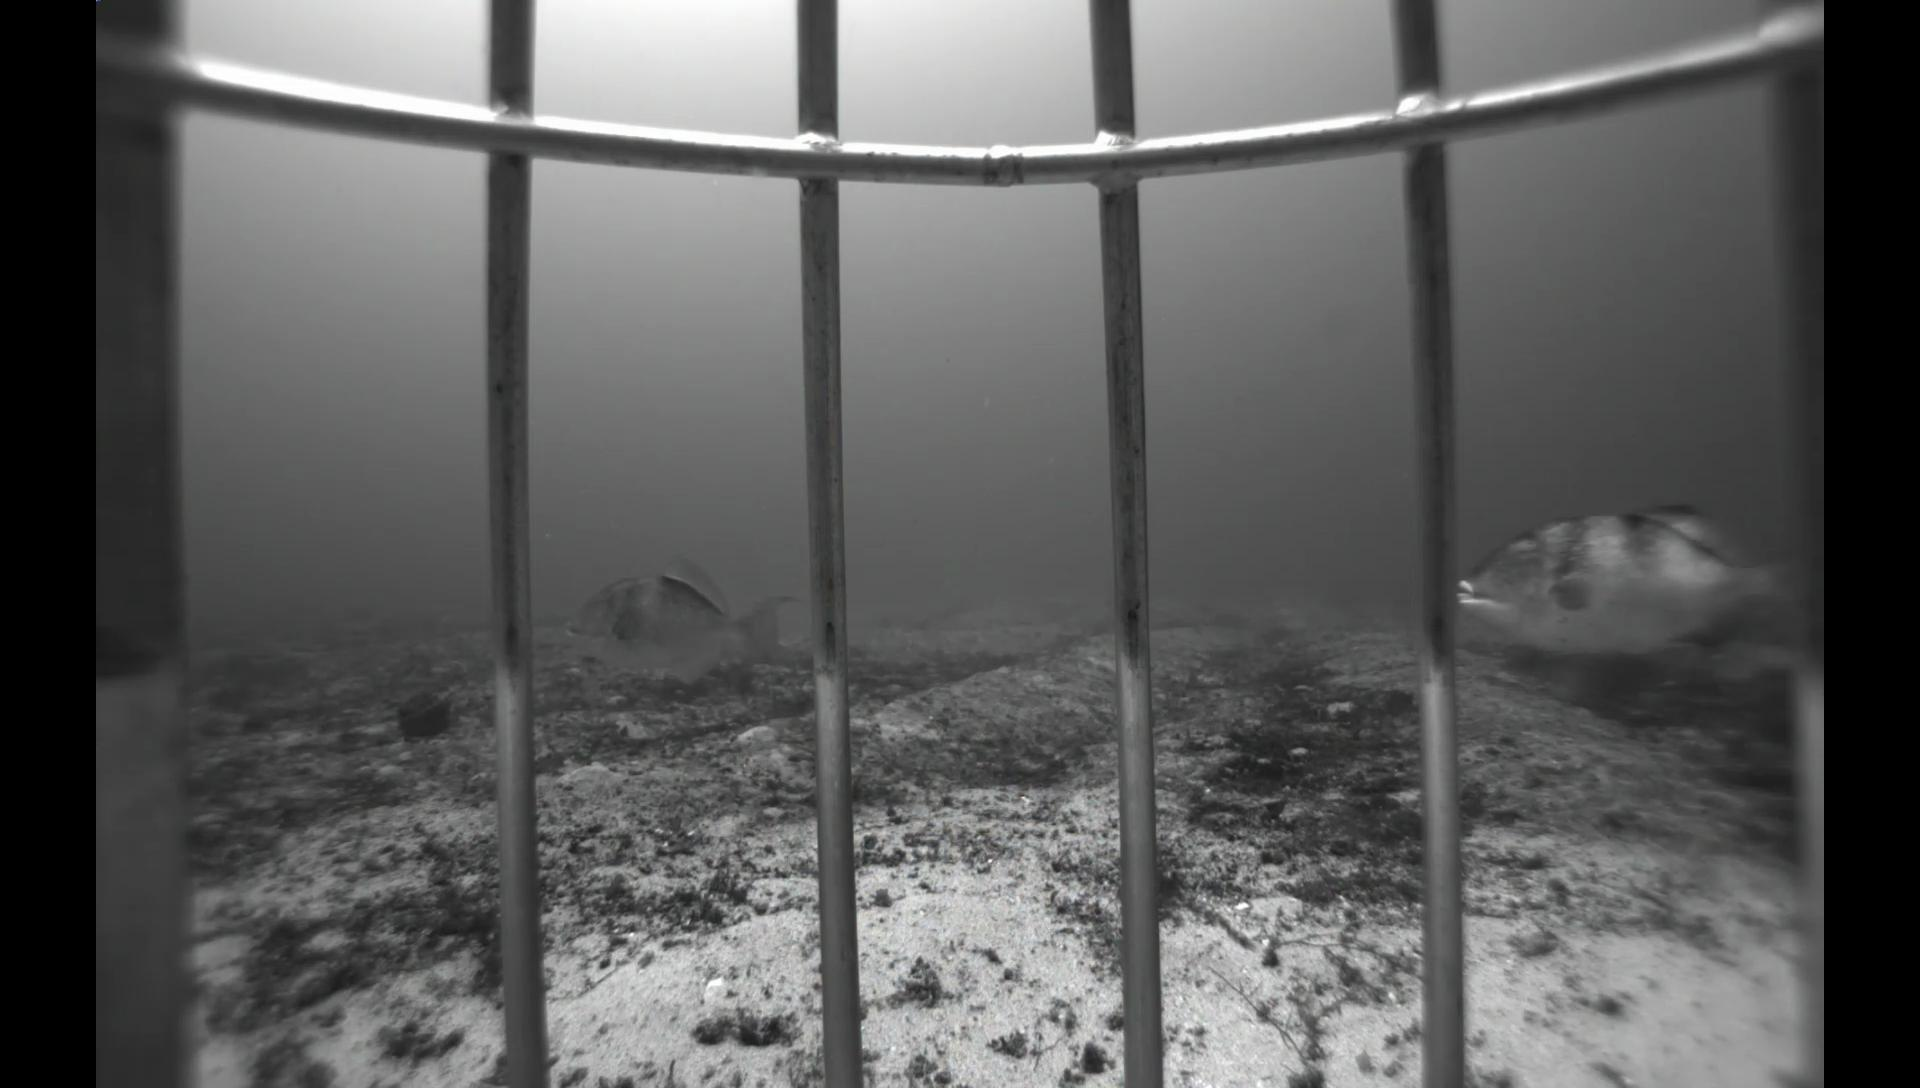BALISTESCAPRISCUS-189030502: (1456, 499, 1800, 684), (549, 546, 814, 704)
